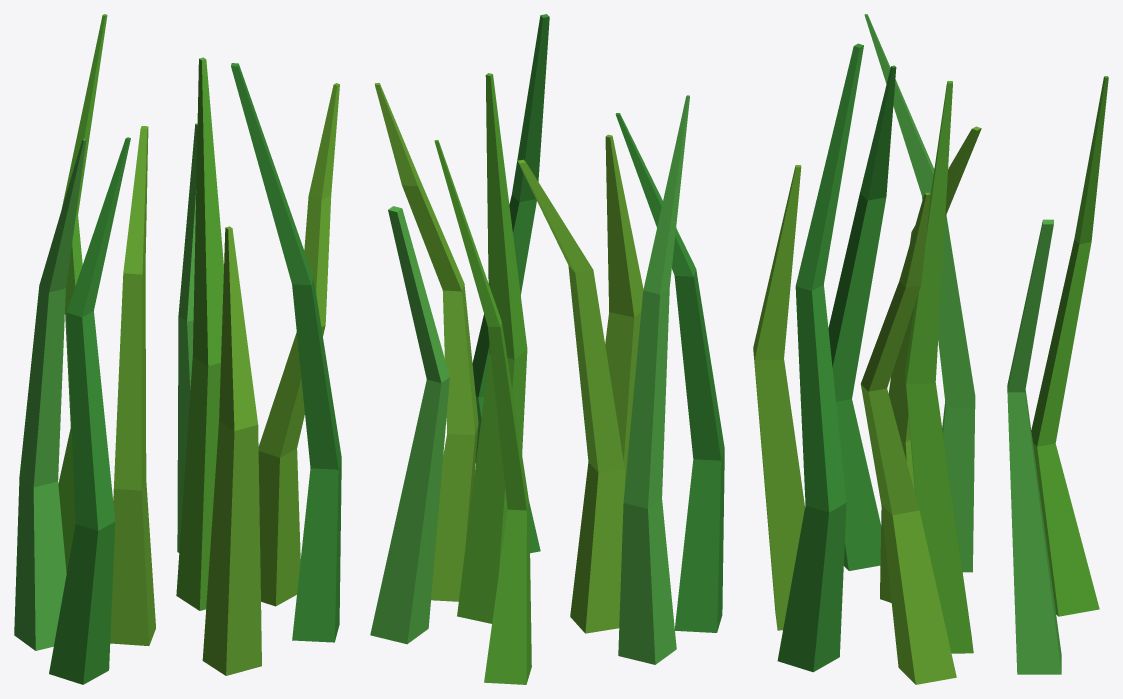
Rendered from grass.fbx.
3 renders of one model, left to right at view 1: azimuth 30°, elevation 25°; view 2: azimuth 150°, elevation 25°; view 3: azimuth 270°, elevation 25°, orthographic. The views are drawn at different scales.
Parts seen in each view (by area): view 1: Cube.008, Cube.001, Cube.002, Cube.006, Cube.003, Cube.007, Cube.004, Cube.005, Cube; view 2: Cube.002, Cube.003, Cube.007, Cube, Cube.008, Cube.004, Cube.005, Cube.001, Cube.006; view 3: Cube.006, Cube.004, Cube.007, Cube.008, Cube.005, Cube, Cube.001, Cube.002, Cube.003.
Part boxes in pixels (x1,y1,x2,y2): Cube.008: (49, 137, 130, 684); Cube.001: (202, 226, 261, 675); Cube.002: (14, 139, 86, 650); Cube.006: (231, 63, 341, 642); Cube.003: (110, 126, 155, 645); Cube.007: (176, 57, 223, 610); Cube.004: (258, 83, 339, 606); Cube.005: (58, 14, 107, 572); Cube: (177, 123, 197, 552); Cube.002: (618, 95, 689, 664); Cube.003: (517, 159, 624, 633); Cube.007: (457, 73, 527, 623); Cube: (370, 206, 449, 644); Cube.008: (615, 113, 724, 632); Cube.004: (374, 83, 478, 601); Cube.005: (434, 140, 531, 684); Cube.001: (605, 134, 643, 484); Cube.006: (472, 14, 549, 553); Cube.006: (777, 43, 863, 672); Cube.004: (860, 192, 956, 684); Cube.007: (905, 81, 973, 653); Cube.008: (828, 65, 896, 570); Cube.005: (1031, 76, 1108, 616); Cube: (1007, 219, 1061, 674); Cube.001: (753, 165, 804, 630); Cube.002: (864, 14, 975, 572); Cube.003: (880, 126, 981, 602).
Size of the model in its own units: 85.21 by 147 by 79.86.
